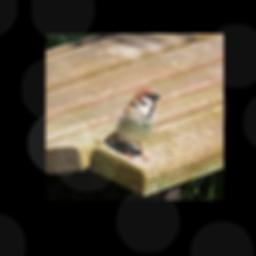Sparrow: (104, 89, 160, 161)
